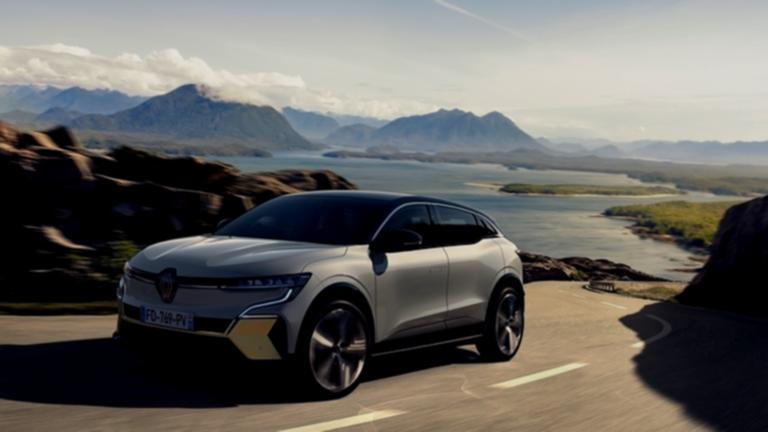Renault: (153, 264, 180, 307)
